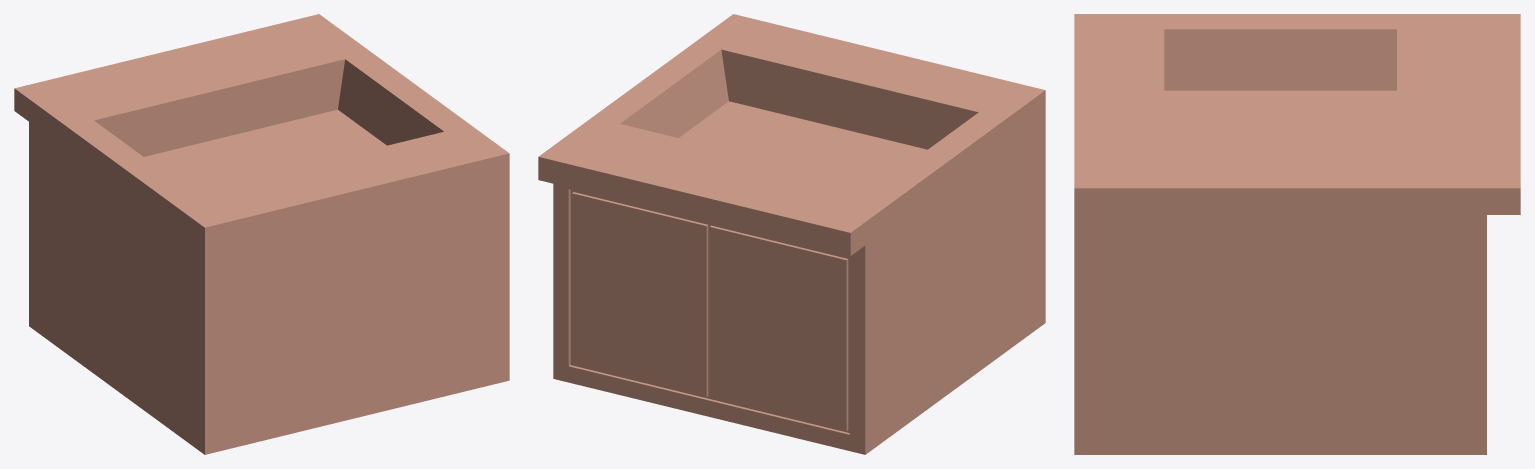
File: Barra_De_Cosina_004.fbx
3 views of the same model, side by side, from view 1: azimuth 30°, elevation 25°; view 2: azimuth 150°, elevation 25°; view 3: azimuth 270°, elevation 25° (orthographic). The views are drawn at different scales.
Parts seen in each view (by area): view 1: Barra_De_Cosina_005; view 2: Barra_De_Cosina_005; view 3: Barra_De_Cosina_005.
Part boxes in pixels (box(x1,y1,x2,y2)): Barra_De_Cosina_005: box(14, 14, 509, 454); Barra_De_Cosina_005: box(538, 14, 1045, 454); Barra_De_Cosina_005: box(1074, 14, 1520, 454).
Bounding box in the file's own units: 0.02 × 0.0143 × 0.0216.
